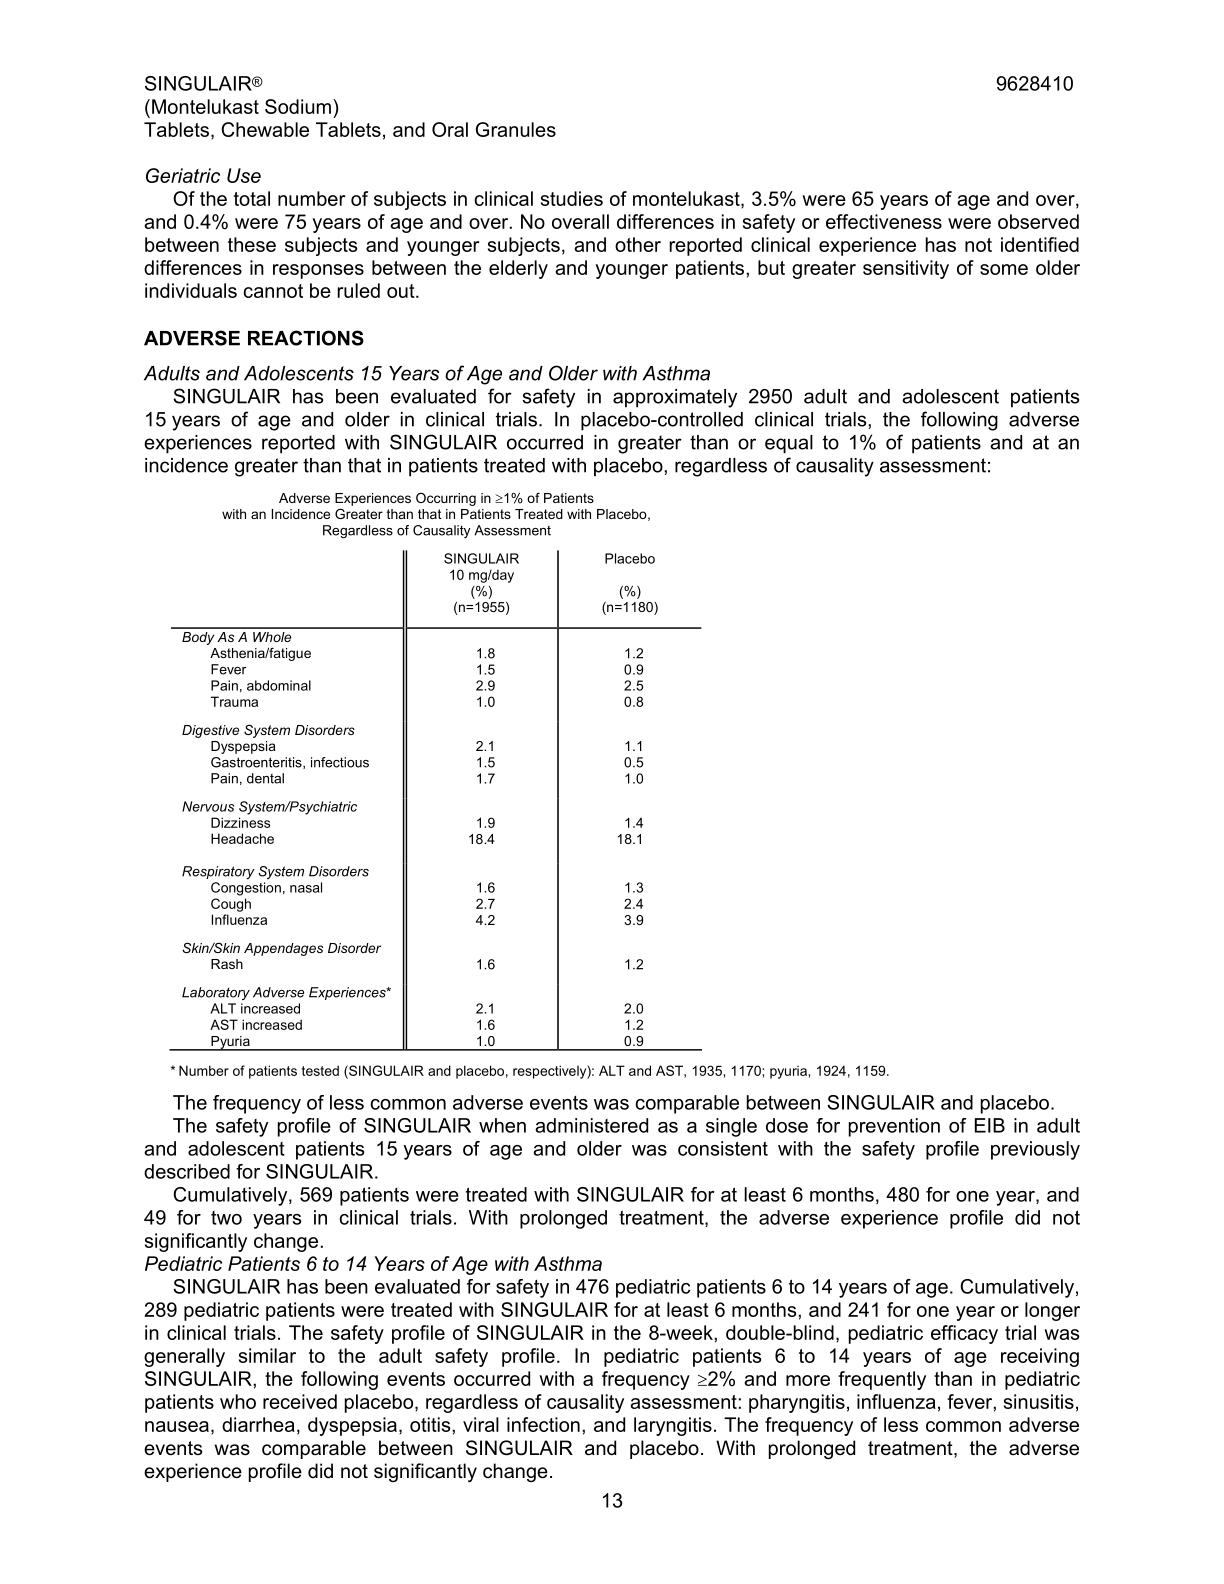partial_lined: (168, 546, 702, 1054)
